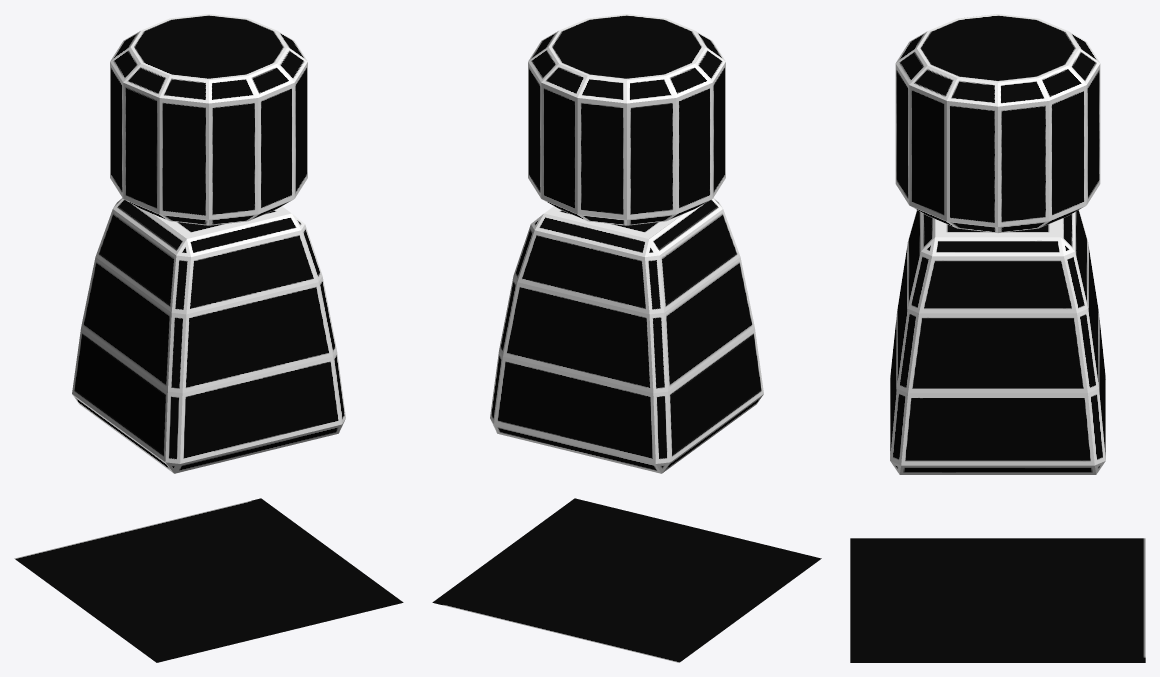
The model's file is test-hyper-casual.glb.
3 renders of one model, left to right at view 1: azimuth 30°, elevation 25°; view 2: azimuth 150°, elevation 25°; view 3: azimuth 270°, elevation 25°, orthographic. The views are drawn at different scales.
Parts seen in each view (by area): view 1: hc-character-mesh; view 2: hc-character-mesh; view 3: hc-character-mesh.
Boxes of the visible parts, x1=… form: hc-character-mesh: x1=14, y1=14, x2=403, y2=662; hc-character-mesh: x1=432, y1=14, x2=821, y2=662; hc-character-mesh: x1=850, y1=14, x2=1145, y2=662.
Size of the model in its own units: 0.8 by 1.65 by 0.8.
1 material, 1 textured.
